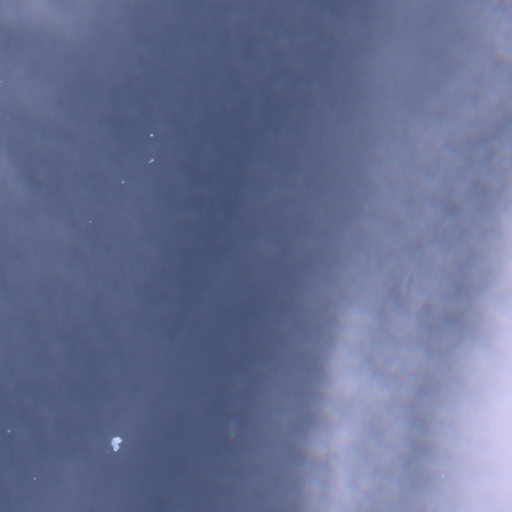Iceberg: (111, 437, 121, 451), (149, 159, 153, 162), (7, 429, 10, 432), (441, 474, 444, 477), (149, 134, 153, 136), (122, 181, 124, 183), (33, 477, 35, 479), (89, 221, 91, 222)
